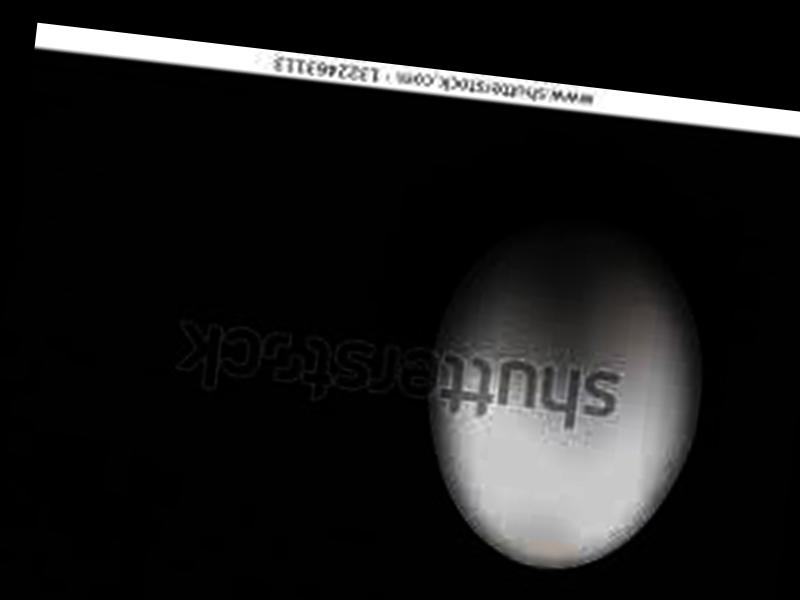Eggs: (415, 204, 722, 589)
